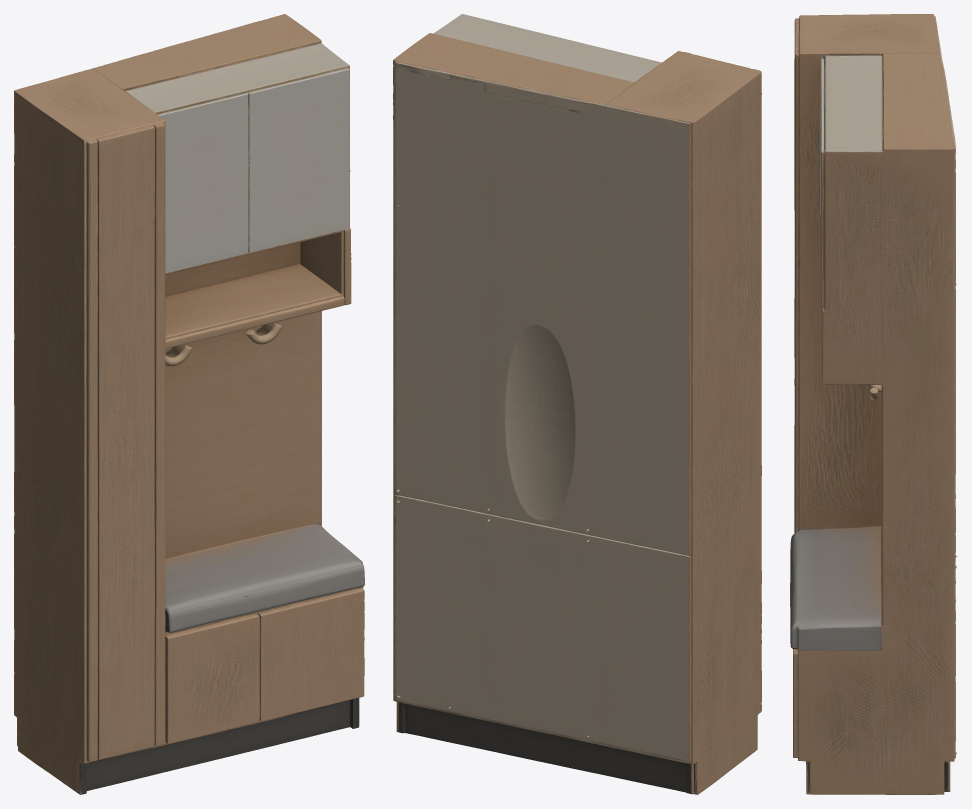
The model's file is No Name-01.glb.
The picture shows the model from 3 angles, left to right: view 1: azimuth 30°, elevation 25°; view 2: azimuth 150°, elevation 25°; view 3: azimuth 270°, elevation 25°; orthographic projection. The views are drawn at different scales.
Visible parts, largest first — view 1: tripo_node_75f22714-ad42-4dfa-978e-f90f05e9877b; view 2: tripo_node_75f22714-ad42-4dfa-978e-f90f05e9877b; view 3: tripo_node_75f22714-ad42-4dfa-978e-f90f05e9877b.
Boxes of the visible parts, x1=… form: tripo_node_75f22714-ad42-4dfa-978e-f90f05e9877b: x1=14, y1=14, x2=364, y2=794; tripo_node_75f22714-ad42-4dfa-978e-f90f05e9877b: x1=393, y1=14, x2=761, y2=794; tripo_node_75f22714-ad42-4dfa-978e-f90f05e9877b: x1=790, y1=14, x2=957, y2=794.
Size of the model in its own units: 0.4403 by 0.9792 by 0.2303.
1 material, 1 textured.
